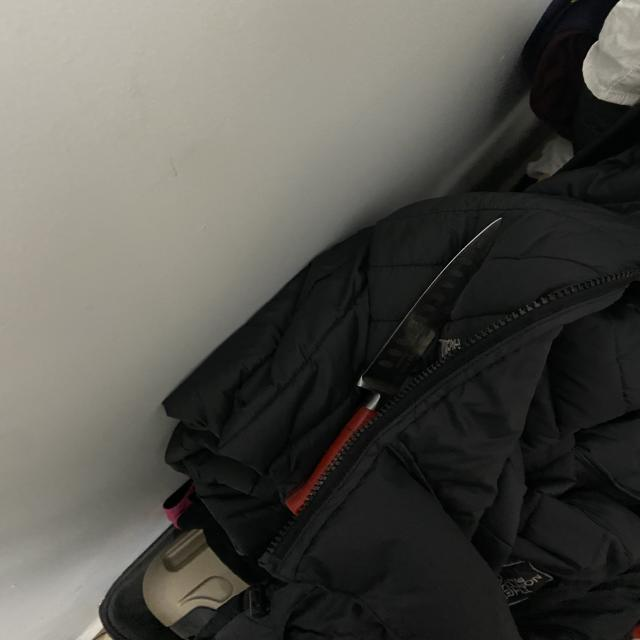Hammer: (250, 154, 522, 527)
